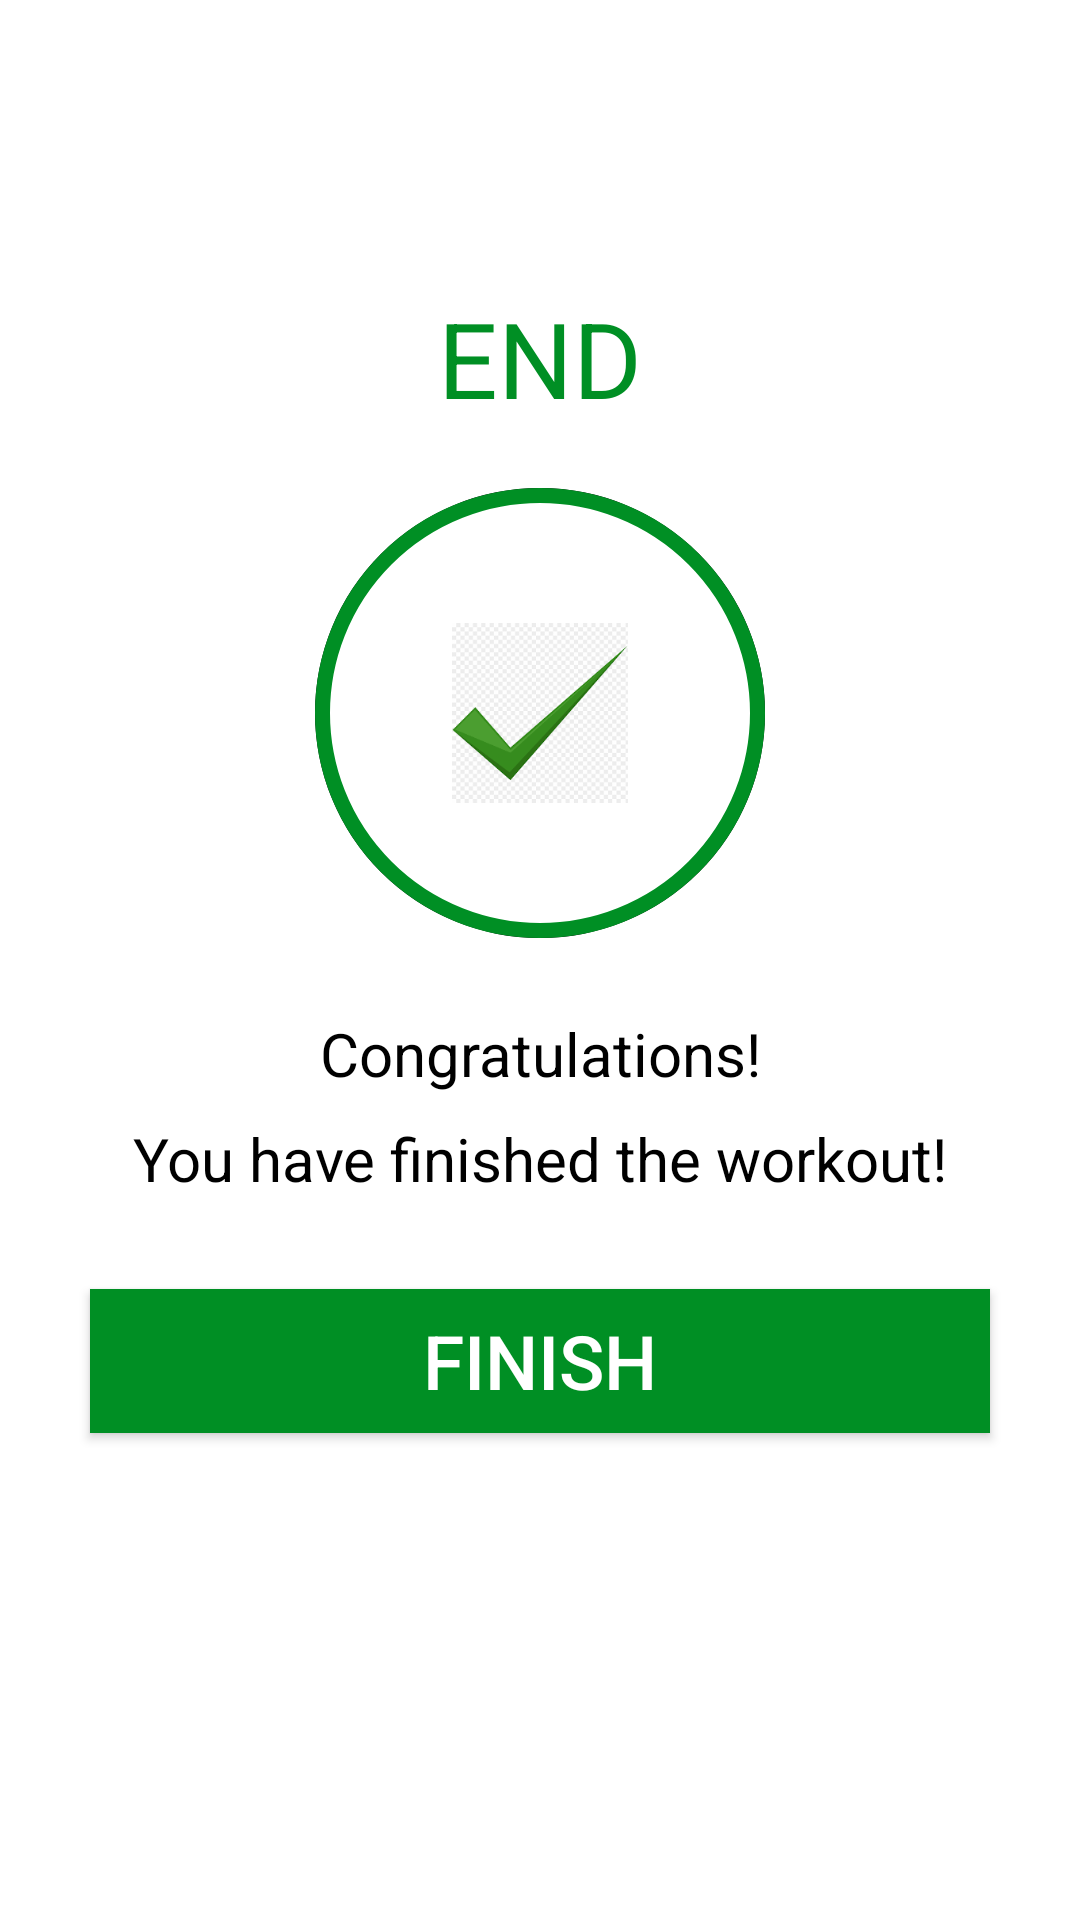

Named icons in this screenshot (1080 × 1920) and their centers, (x=x, y=y):
done: (x=539, y=713)
